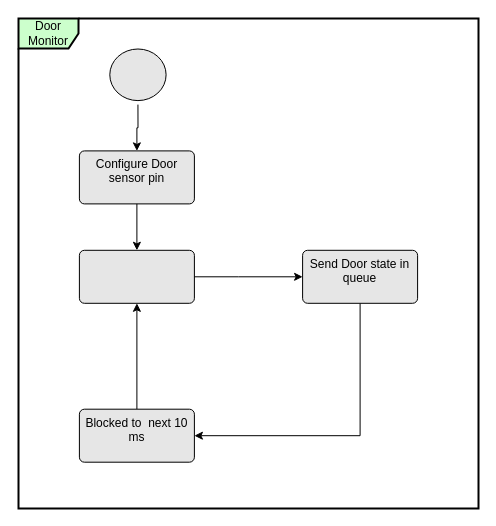
Image size: 496x526. Some labels were removed from this diagram. The shapes that lost their labels are listed below. From the top down, each one's box as (x1, y1, x2, y2) in pixels, then its label:
(105, 44, 170, 105): start
(78, 249, 194, 303): Reed Door Sensor
